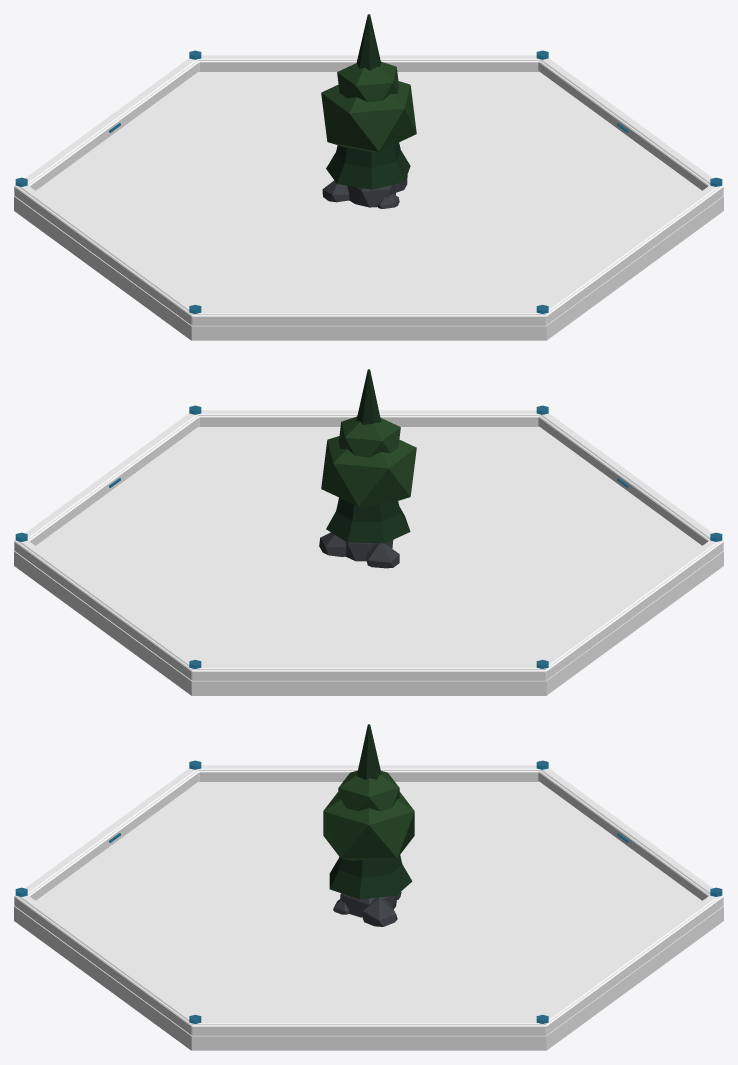
File: sb_kit.glb
3 views of the same model, one above another, from view 1: azimuth 30°, elevation 25°; view 2: azimuth 150°, elevation 25°; view 3: azimuth 270°, elevation 25° (orthographic).
Parts seen in each view (by area): view 1: KIT_PLATE, KIT_FRAME, VEG_1_BROADLEAF_K, VEG_0_CONIFER_K, VEG_3_TALLPINE_K, VEG_4_ROCK_K, KIT_NODES; view 2: KIT_PLATE, KIT_FRAME, VEG_1_BROADLEAF_K, VEG_3_TALLPINE_K, VEG_0_CONIFER_K, VEG_4_ROCK_K, KIT_NODES; view 3: KIT_PLATE, KIT_FRAME, VEG_1_BROADLEAF_K, VEG_0_CONIFER_K, VEG_3_TALLPINE_K, VEG_4_ROCK_K, KIT_NODES.
Part boxes in pixels (x1,y1,x2,y2): KIT_PLATE: (14,71,723,340); KIT_FRAME: (14,55,723,325); VEG_1_BROADLEAF_K: (321,61,416,152); VEG_0_CONIFER_K: (326,150,410,189); VEG_3_TALLPINE_K: (336,14,400,167); VEG_4_ROCK_K: (322,175,407,208); KIT_NODES: (15,50,722,313); KIT_PLATE: (14,426,723,695); KIT_FRAME: (14,410,723,680); VEG_1_BROADLEAF_K: (321,416,416,507); VEG_3_TALLPINE_K: (336,369,400,521); VEG_0_CONIFER_K: (326,506,410,543); VEG_4_ROCK_K: (319,532,399,568); KIT_NODES: (15,405,722,668); KIT_PLATE: (14,781,723,1050); KIT_FRAME: (14,765,723,1035); VEG_1_BROADLEAF_K: (323,770,414,860); VEG_0_CONIFER_K: (329,858,412,899); VEG_3_TALLPINE_K: (339,724,402,877); VEG_4_ROCK_K: (333,892,401,926); KIT_NODES: (15,760,722,1023).
Size of the model in its own units: 48.06 by 17.2 by 55.43.
